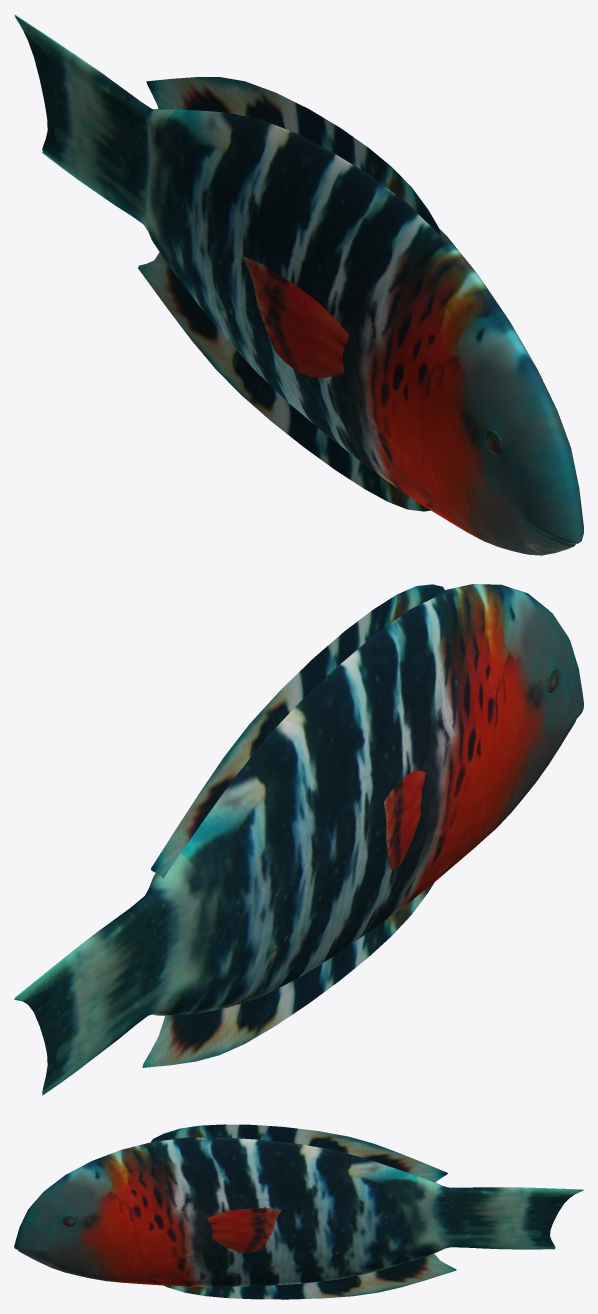
Rendered from fish3.fbx.
3 renders of one model, top to bottom at view 1: azimuth 30°, elevation 25°; view 2: azimuth 150°, elevation 25°; view 3: azimuth 270°, elevation 25°, orthographic. The views are drawn at different scales.
Visible parts, largest first — view 1: redbreasted_mesh; view 2: redbreasted_mesh; view 3: redbreasted_mesh.
Part boxes in pixels (x1,y1,x2,y2): redbreasted_mesh: (14,15,583,555); redbreasted_mesh: (14,584,583,1095); redbreasted_mesh: (14,1124,583,1299).
Bounding box in the file's own units: 6.03 × 14.2 × 41.91.
